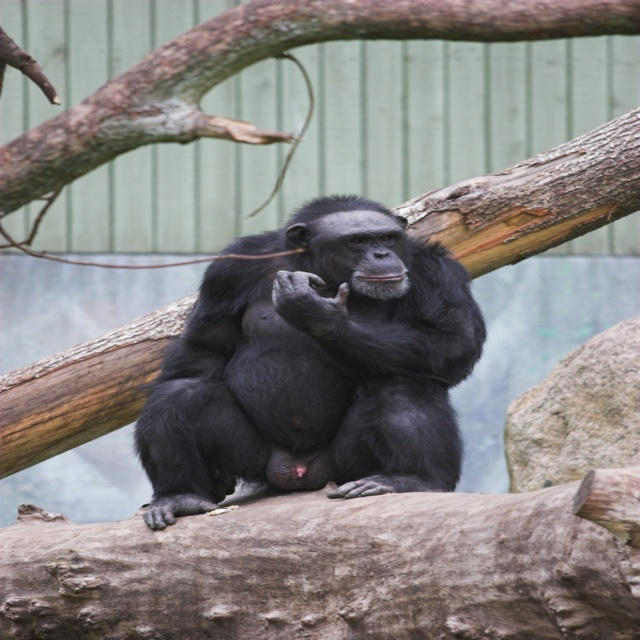Monkey: (141, 193, 486, 530)
